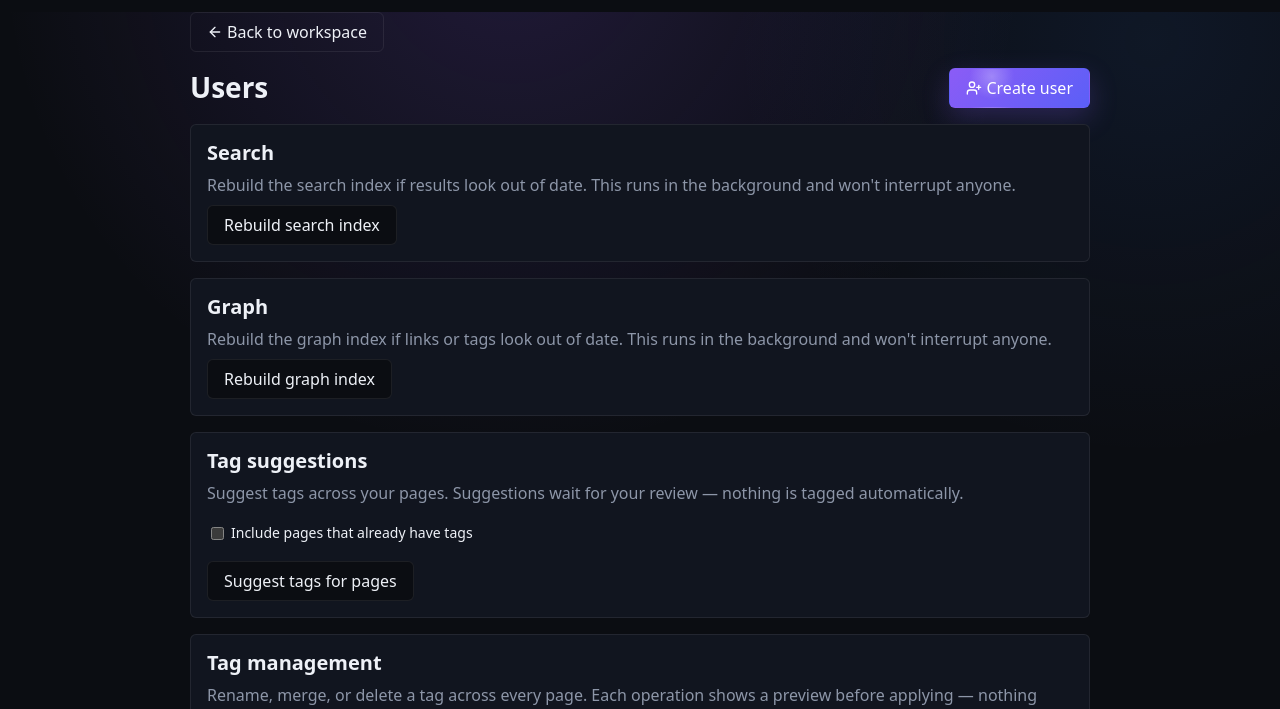
Admin — Tag suggestions sweep-start (TAG-05) › shows the generic error line on a rejected sweep (no infra vocabulary)
Click the button "Suggest tags for pages".
click(310, 581)  # box x1=207 y1=561 x2=414 y2=601
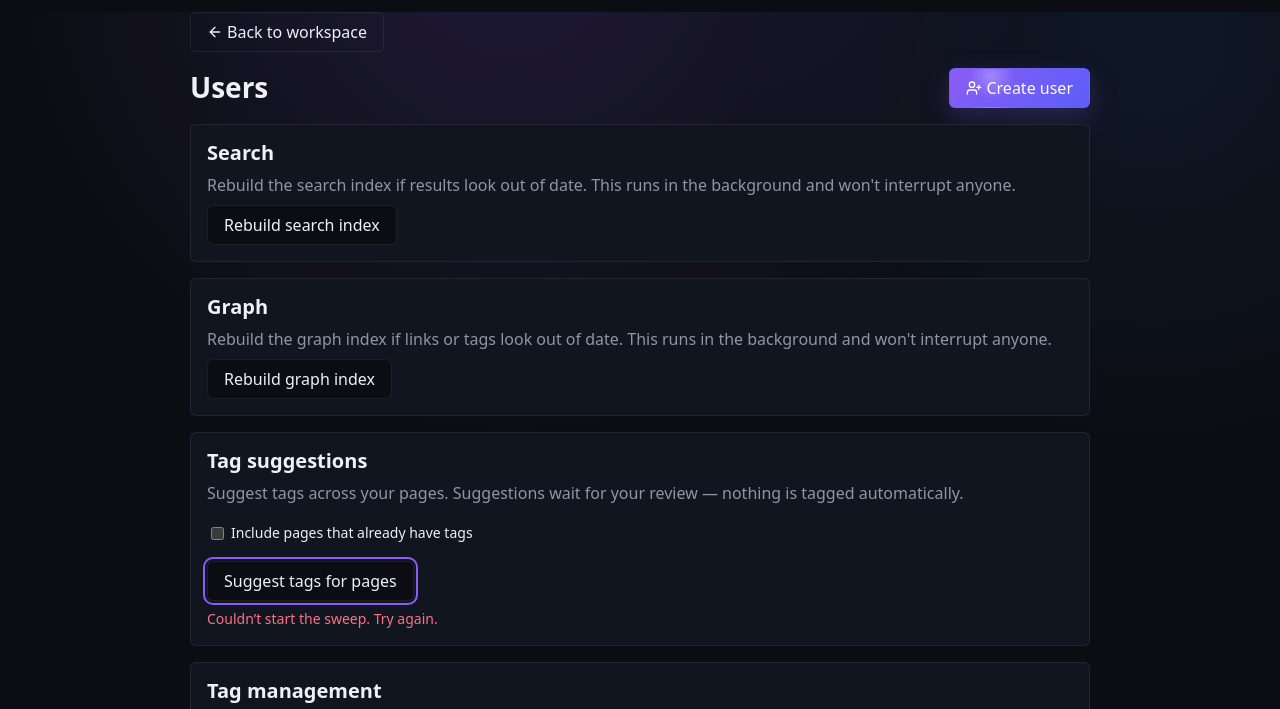
Check: the message reads "Couldn’t start the sweep. Try again.", box x1=207 y1=609 x2=438 y2=628
